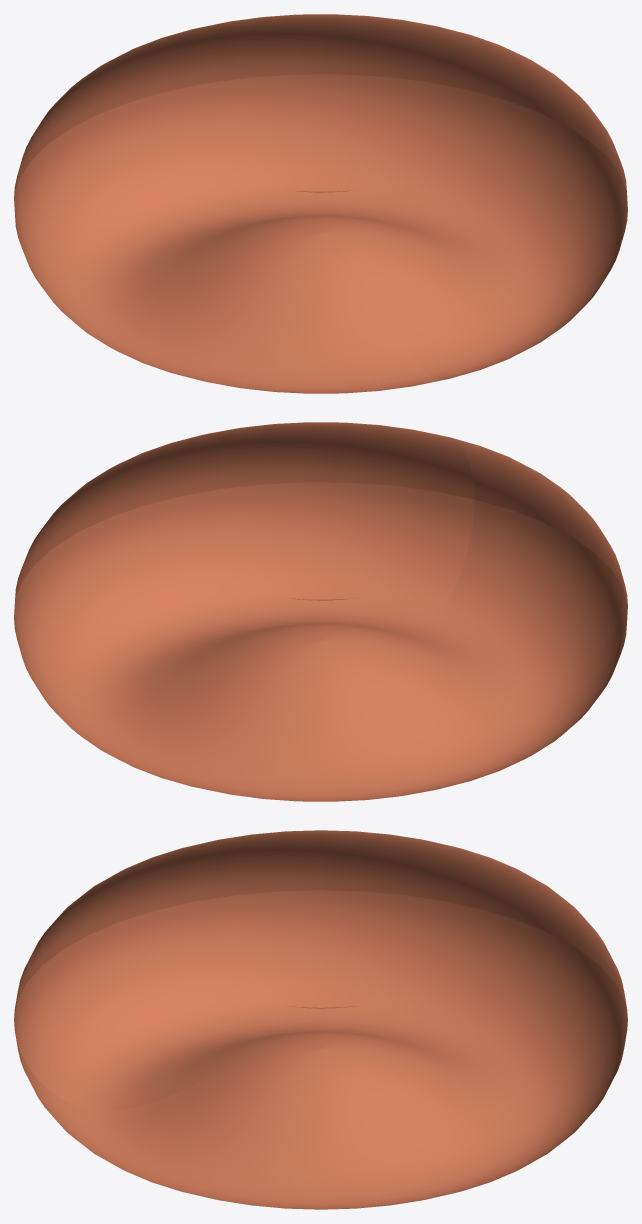
Rendered from rbc.glb.
The picture shows the model from 3 angles, top to bottom: view 1: azimuth 30°, elevation 25°; view 2: azimuth 150°, elevation 25°; view 3: azimuth 270°, elevation 25°; orthographic projection.
Visible parts, largest first — view 1: red_blood_cell; view 2: red_blood_cell; view 3: red_blood_cell.
Part boxes in pixels (left/top/right/bottom): red_blood_cell: left=14, top=14, right=627, bottom=393; red_blood_cell: left=14, top=422, right=627, bottom=801; red_blood_cell: left=14, top=830, right=627, bottom=1209.
Bounding box in the file's own units: 2 × 0.6563 × 2.
